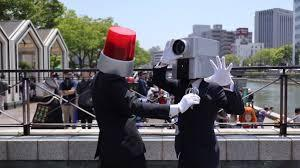no more kid: (163, 34, 224, 83)
